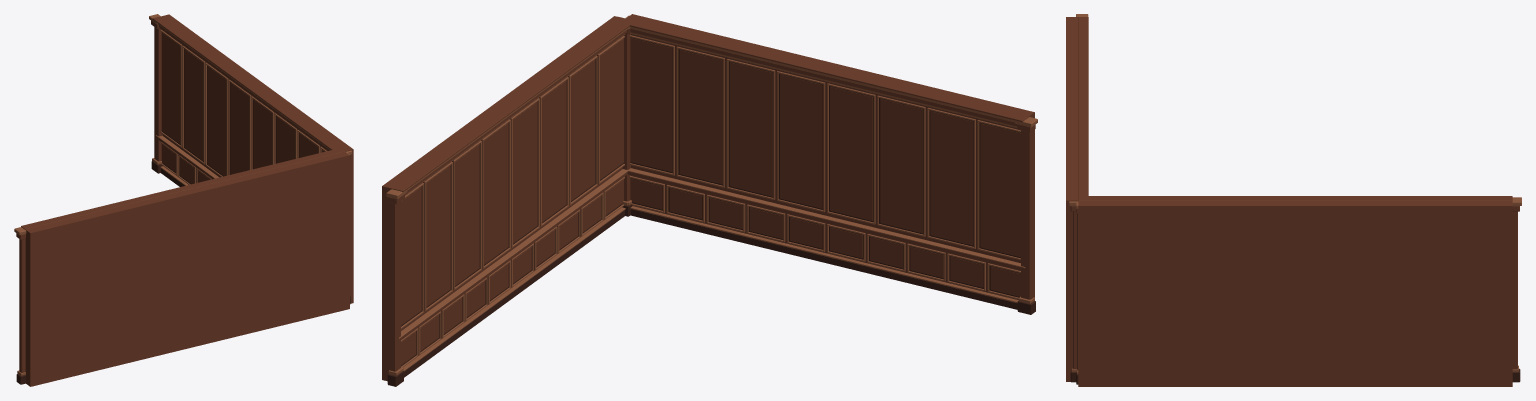
The model's file is lecture_complete_shell.glb.
3 views of the same model, side by side, from view 1: azimuth 30°, elevation 25°; view 2: azimuth 150°, elevation 25°; view 3: azimuth 270°, elevation 25° (orthographic). The views are drawn at different scales.
Parts seen in each view (by area): view 1: lecture_front_Wall_Solid_00, lecture_right_Wall_Solid_00, lecture_right_Wall_UpperPanel_00_0_0_Field, lecture_right_Wall_UpperPanel_00_0_1_Field, lecture_right_Wall_UpperPanel_00_0_2_Field, lecture_right_Wall_Cornice_00_3_0, lecture_right_Wall_UpperPanel_00_0_3_Field, lecture_front_Wall_Cornice_00_3_0, lecture_right_Wall_UpperPanel_00_0_4_Field, Pilaster_Shaft_004, Pilaster_Shaft_009, lecture_right_Wall_UpperPanel_00_0_5_Field (+8 smaller); view 2: lecture_front_Wall_Solid_00, lecture_front_Wall_UpperPanel_00_0_1_Field, lecture_front_Wall_UpperPanel_00_0_6_Field, lecture_front_Wall_UpperPanel_00_0_2_Field, lecture_front_Wall_UpperPanel_00_0_3_Field, lecture_front_Wall_UpperPanel_00_0_4_Field, lecture_front_Wall_UpperPanel_00_0_5_Field, lecture_front_Wall_UpperPanel_00_0_0_Field, lecture_front_Wall_UpperPanel_00_0_7_Field, lecture_right_Wall_Solid_00, lecture_right_Wall_UpperPanel_00_0_1_Field, lecture_right_Wall_UpperPanel_00_0_2_Field (+40 smaller); view 3: lecture_right_Wall_Solid_00, lecture_front_Wall_Solid_00, lecture_right_Wall_Cornice_00_3_0, lecture_front_Wall_Cornice_00_3_0, Pilaster_Shaft_004, Pilaster_Shaft_005.
Boxes of the visible parts, x1,y1,x2,y2 form: lecture_front_Wall_Solid_00: [25, 151, 349, 386]; lecture_right_Wall_Solid_00: [161, 14, 353, 303]; lecture_right_Wall_UpperPanel_00_0_0_Field: [161, 32, 180, 144]; lecture_right_Wall_UpperPanel_00_0_1_Field: [184, 49, 203, 160]; lecture_right_Wall_UpperPanel_00_0_2_Field: [207, 66, 226, 176]; lecture_right_Wall_Cornice_00_3_0: [152, 16, 343, 152]; lecture_right_Wall_UpperPanel_00_0_3_Field: [230, 82, 249, 174]; lecture_front_Wall_Cornice_00_3_0: [21, 150, 344, 229]; lecture_right_Wall_UpperPanel_00_0_4_Field: [253, 99, 272, 169]; Pilaster_Shaft_004: [154, 27, 162, 161]; Pilaster_Shaft_009: [19, 238, 25, 372]; lecture_right_Wall_UpperPanel_00_0_5_Field: [276, 116, 295, 163]; lecture_front_Wall_Solid_00: [626, 14, 1034, 299]; lecture_front_Wall_UpperPanel_00_0_1_Field: [679, 50, 722, 184]; lecture_front_Wall_UpperPanel_00_0_6_Field: [930, 111, 973, 245]; lecture_front_Wall_UpperPanel_00_0_2_Field: [729, 62, 772, 196]; lecture_front_Wall_UpperPanel_00_0_3_Field: [780, 74, 822, 208]; lecture_front_Wall_UpperPanel_00_0_4_Field: [830, 86, 872, 220]; lecture_front_Wall_UpperPanel_00_0_5_Field: [880, 99, 922, 233]; lecture_front_Wall_UpperPanel_00_0_0_Field: [630, 38, 672, 171]; lecture_front_Wall_UpperPanel_00_0_7_Field: [980, 123, 1020, 257]; lecture_right_Wall_Solid_00: [382, 16, 624, 381]; lecture_right_Wall_UpperPanel_00_0_1_Field: [426, 165, 450, 306]; lecture_right_Wall_UpperPanel_00_0_2_Field: [455, 144, 479, 285]; lecture_right_Wall_Solid_00: [1078, 200, 1512, 386]; lecture_front_Wall_Solid_00: [1066, 17, 1077, 381]; lecture_right_Wall_Cornice_00_3_0: [1078, 196, 1512, 200]; lecture_front_Wall_Cornice_00_3_0: [1078, 17, 1088, 200]; Pilaster_Shaft_004: [1512, 211, 1517, 368]; Pilaster_Shaft_005: [1073, 211, 1077, 368].
Size of the model in its own units: 10.5 by 4.61 by 10.5.
